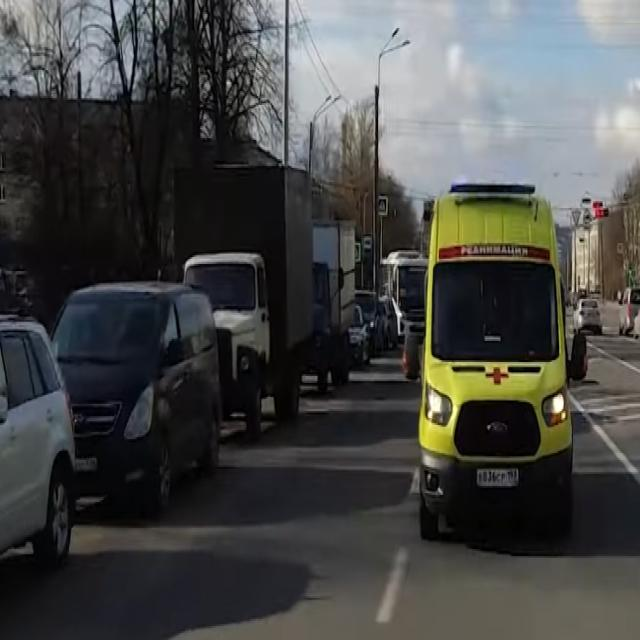intensive care unit: (419, 179, 575, 553)
non emergency car: (45, 281, 223, 520), (174, 168, 313, 465), (2, 306, 79, 572), (313, 213, 358, 392), (380, 245, 428, 357), (619, 284, 640, 340), (576, 296, 603, 336)
